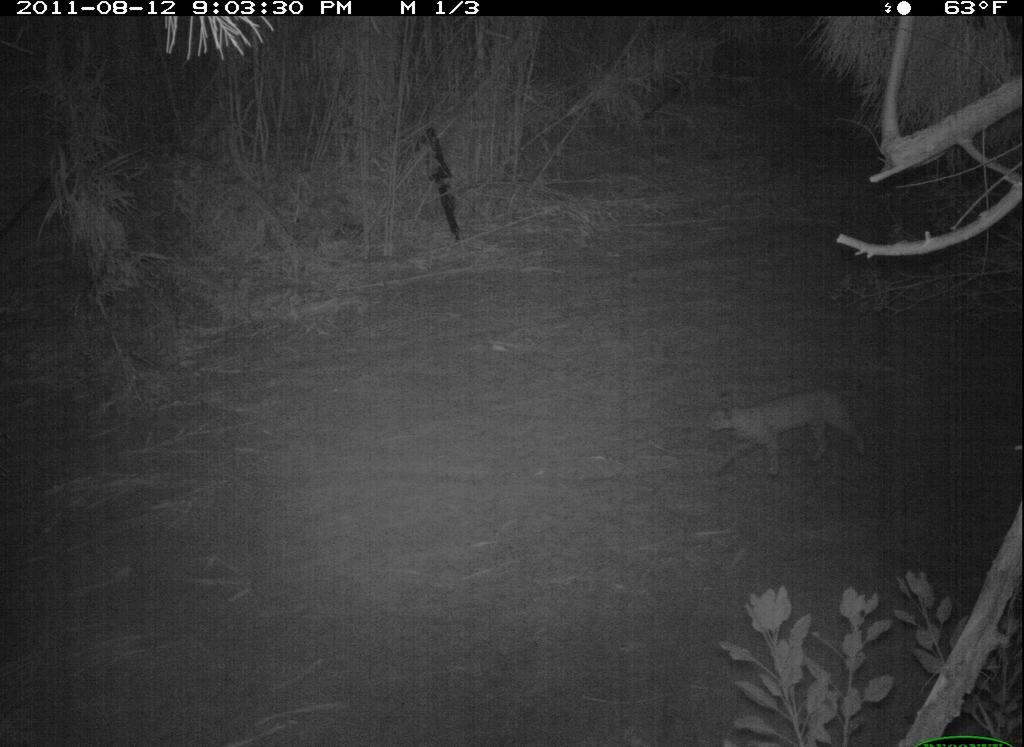bobcat: (698, 385, 884, 479)
